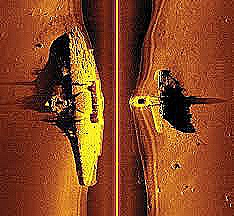aircraft: (35, 26, 167, 187)
